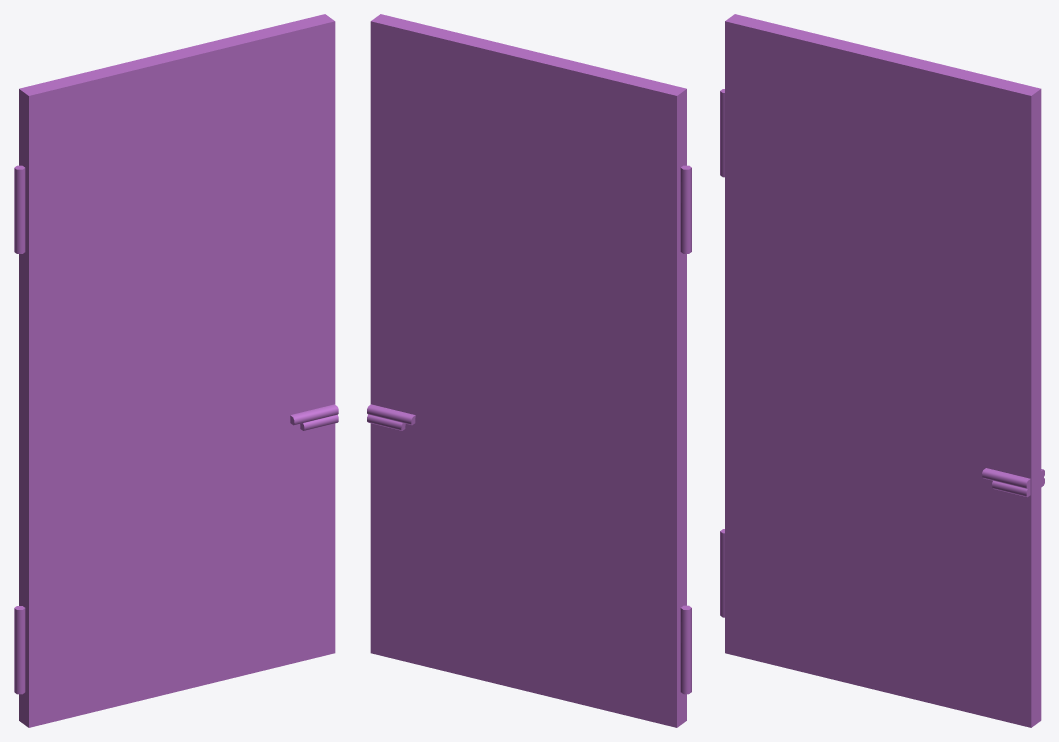
Rendered from Church1_Door_C.fbx.
3 renders of one model, left to right at view 1: azimuth 30°, elevation 25°; view 2: azimuth 150°, elevation 25°; view 3: azimuth 330°, elevation 25°, orthographic.
Parts seen in each view (by area): view 1: Church1_Door_C; view 2: Church1_Door_C; view 3: Church1_Door_C.
Boxes of the visible parts, box(x1,y1,x2,y2) form: Church1_Door_C: box(14, 14, 338, 727); Church1_Door_C: box(367, 14, 691, 727); Church1_Door_C: box(720, 14, 1044, 727).
Size of the model in its own units: 1.83 by 3.51 by 0.1821.
